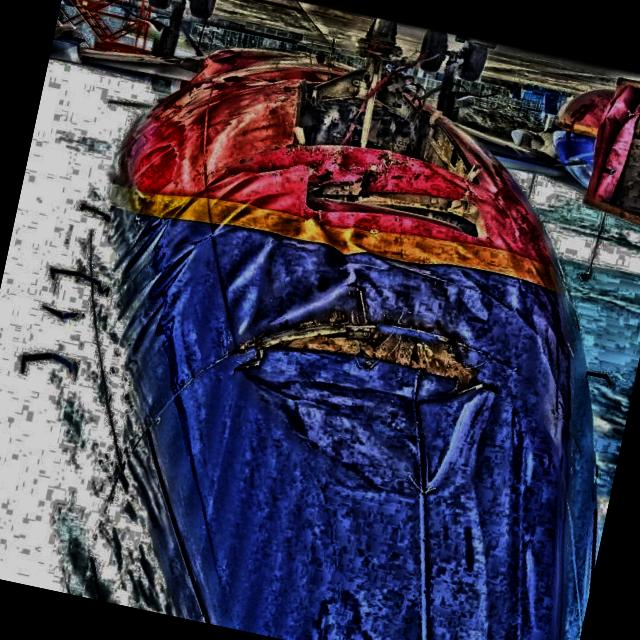crack: (222, 342, 274, 386)
dent: (230, 339, 484, 501), (255, 256, 348, 336), (217, 238, 263, 294)
